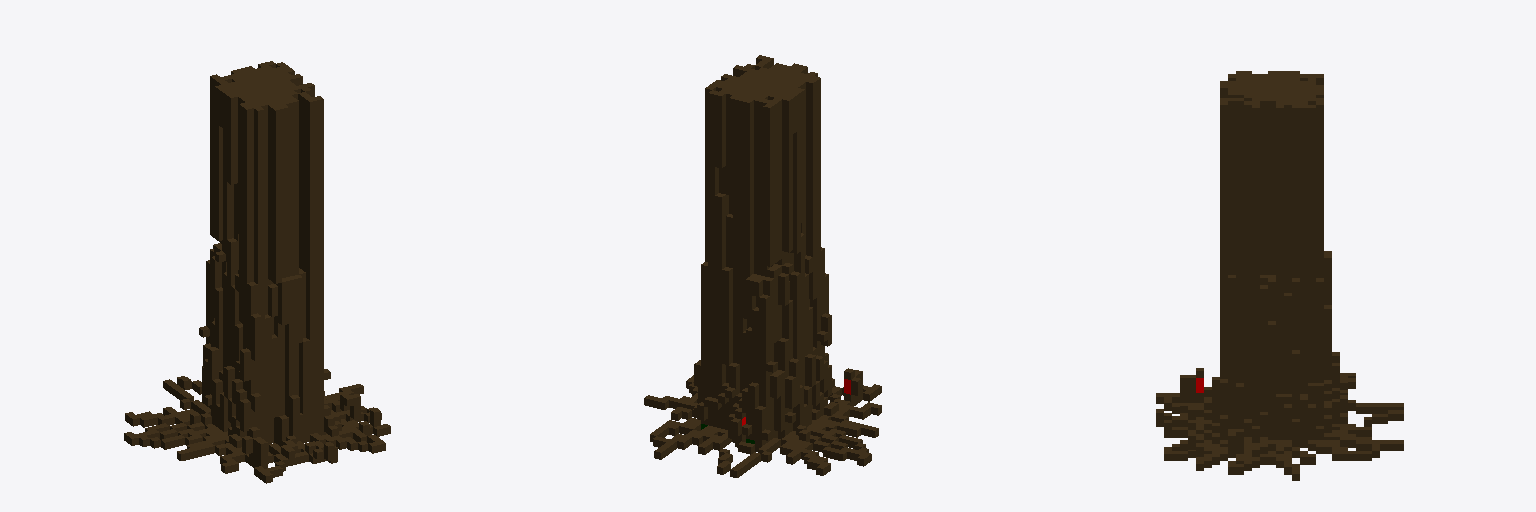
3 renders of one model, left to right at view 1: azimuth 30°, elevation 25°; view 2: azimuth 150°, elevation 25°; view 3: azimuth 270°, elevation 25°, orthographic.
Visible parts, largest first — view 1: object 1; view 2: object 1; view 3: object 1.
Boxes of the visible parts, x1,y1,x2,y2 form: object 1: [124, 61, 390, 483]; object 1: [644, 55, 881, 477]; object 1: [1156, 71, 1403, 480].
Bounding box in the file's own units: 3.3 × 4.7 × 3.1.
Materials: 1 (1 with a texture image).